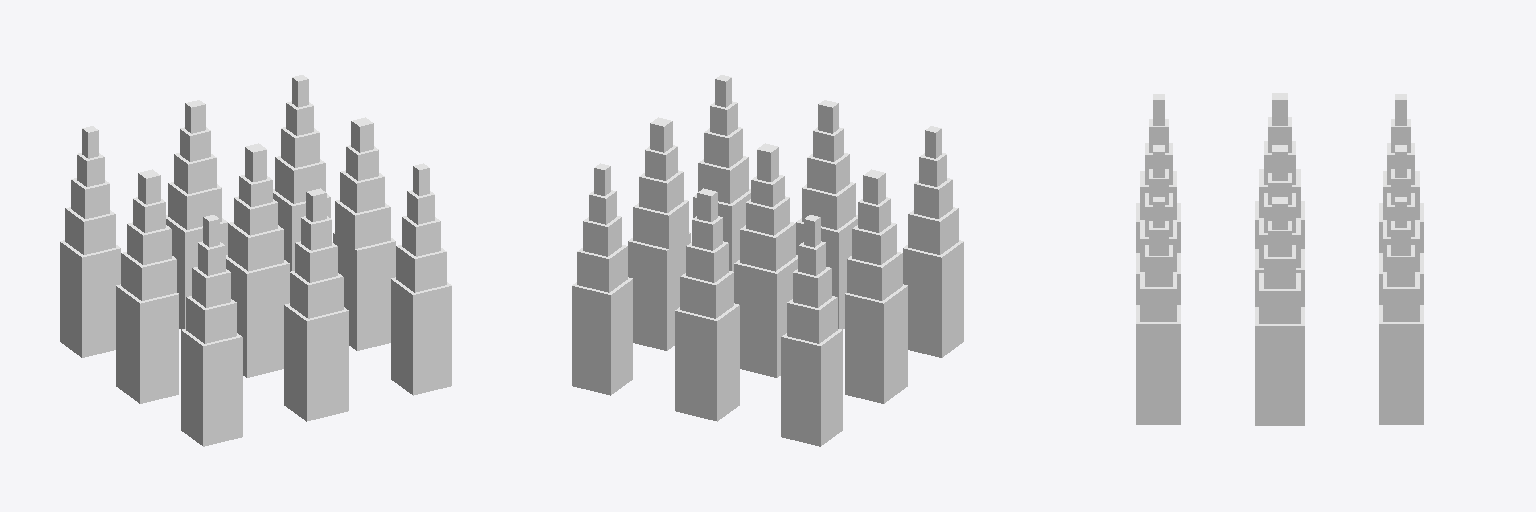
Rendered from basement_holes_spikes.obj.
The picture shows the model from 3 angles: view 1: azimuth 30°, elevation 25°; view 2: azimuth 150°, elevation 25°; view 3: azimuth 270°, elevation 25°; orthographic projection.
Size of the model in its own units: 72 by 58 by 70.